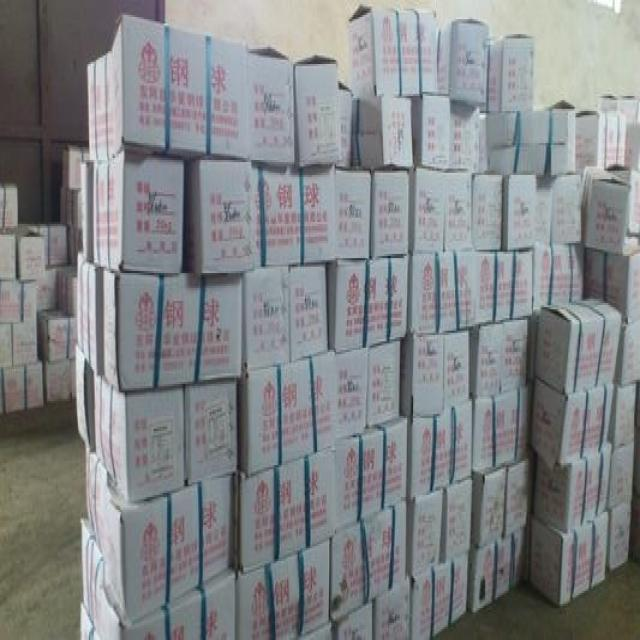box: (86, 442, 238, 619), (76, 343, 239, 501), (76, 252, 243, 395), (110, 15, 251, 156), (80, 516, 237, 640), (235, 446, 336, 574), (239, 348, 337, 476), (91, 151, 184, 275), (329, 497, 408, 625), (237, 540, 330, 640), (250, 164, 336, 271), (335, 412, 408, 535), (536, 294, 622, 393), (347, 4, 437, 98), (181, 158, 251, 277), (527, 506, 610, 606), (325, 254, 408, 350), (531, 380, 616, 467), (533, 442, 612, 531), (408, 401, 472, 501), (469, 521, 533, 614), (471, 454, 533, 548), (471, 384, 533, 476), (294, 53, 343, 169), (247, 45, 295, 162), (407, 250, 473, 335), (241, 267, 289, 373), (435, 17, 489, 111), (412, 553, 469, 640), (473, 247, 533, 329), (579, 166, 630, 258), (352, 96, 414, 169), (585, 245, 640, 324), (488, 32, 536, 113), (289, 262, 328, 361), (533, 243, 585, 316), (400, 333, 444, 418), (533, 171, 582, 245), (407, 166, 448, 254), (371, 169, 408, 258), (533, 100, 576, 175), (335, 350, 369, 444), (407, 489, 442, 580), (85, 51, 113, 164), (336, 171, 371, 260), (411, 92, 450, 171), (576, 111, 626, 171), (488, 111, 536, 173), (369, 339, 402, 429), (441, 476, 472, 563), (468, 322, 503, 399), (502, 173, 537, 250), (472, 173, 504, 252), (443, 169, 473, 252), (372, 576, 409, 640), (443, 331, 469, 412), (500, 320, 527, 395), (451, 102, 478, 171), (37, 307, 70, 363), (609, 442, 636, 508), (609, 384, 636, 450), (612, 169, 639, 235), (334, 77, 353, 169), (610, 499, 633, 572), (333, 602, 372, 640), (618, 320, 640, 382), (18, 235, 46, 282), (43, 358, 70, 403), (19, 224, 48, 265), (2, 365, 26, 414), (82, 162, 94, 260), (12, 322, 38, 365), (528, 311, 542, 388), (0, 279, 23, 324), (0, 181, 19, 235), (24, 361, 43, 412), (78, 602, 103, 640), (61, 145, 82, 190), (37, 267, 59, 309), (48, 222, 67, 265), (0, 235, 17, 279), (22, 279, 38, 322), (478, 113, 489, 173), (0, 322, 13, 369), (626, 124, 639, 169), (300, 623, 333, 640), (66, 267, 77, 314), (623, 235, 639, 260), (68, 314, 77, 356), (59, 267, 67, 314), (67, 224, 76, 265), (72, 190, 82, 226), (59, 188, 67, 224), (70, 356, 76, 401), (66, 190, 73, 224), (0, 369, 5, 414)
